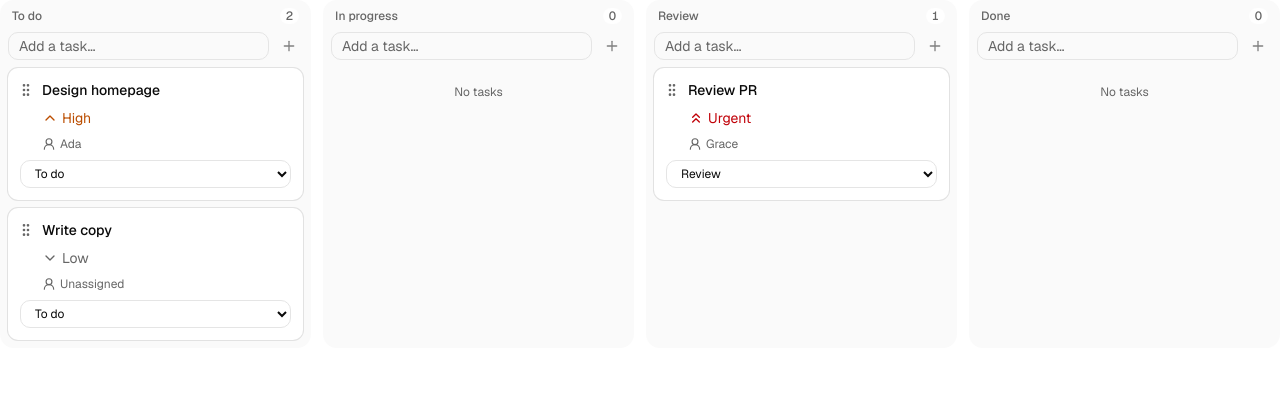
KanbanBoard › rolls the card back and shows the error when the server rejects the move
The width and height of the screenshot is (1280, 413).
Select "Done" in the dropdown named "Move Design homepage": (156, 174) x1=20 y1=160 x2=291 y2=188
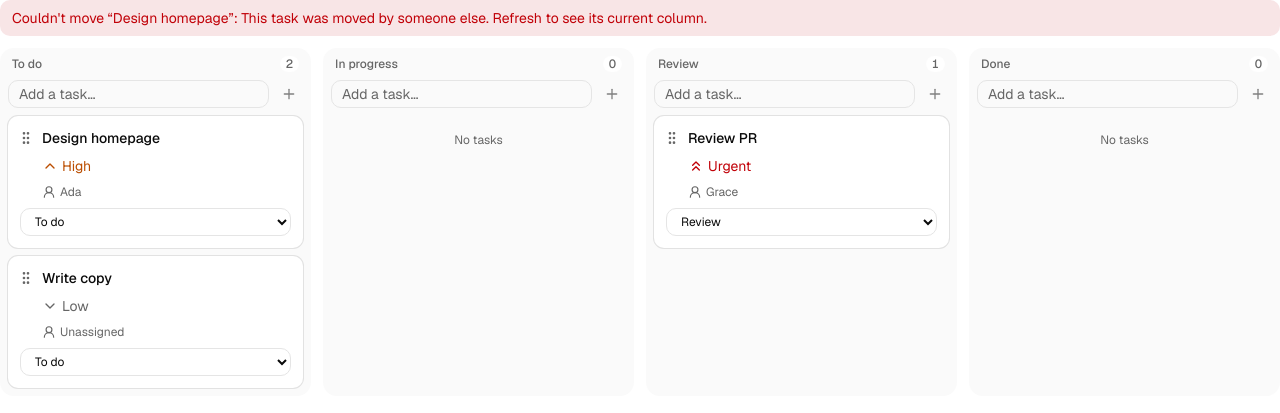
Expected: the element "Design homepage" is shown, x1=8 y1=116 x2=303 y2=248
Result: the message shows "Couldn't move “Design homepage”: This task was moved by someone else." at x1=12 y1=9 x2=707 y2=27
